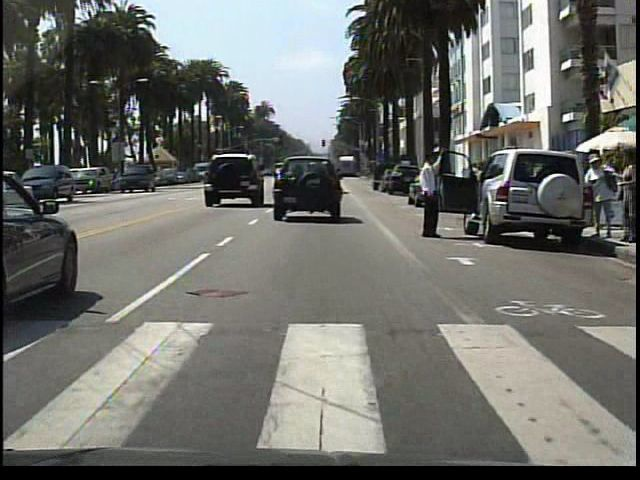person: (416, 146, 454, 250)
